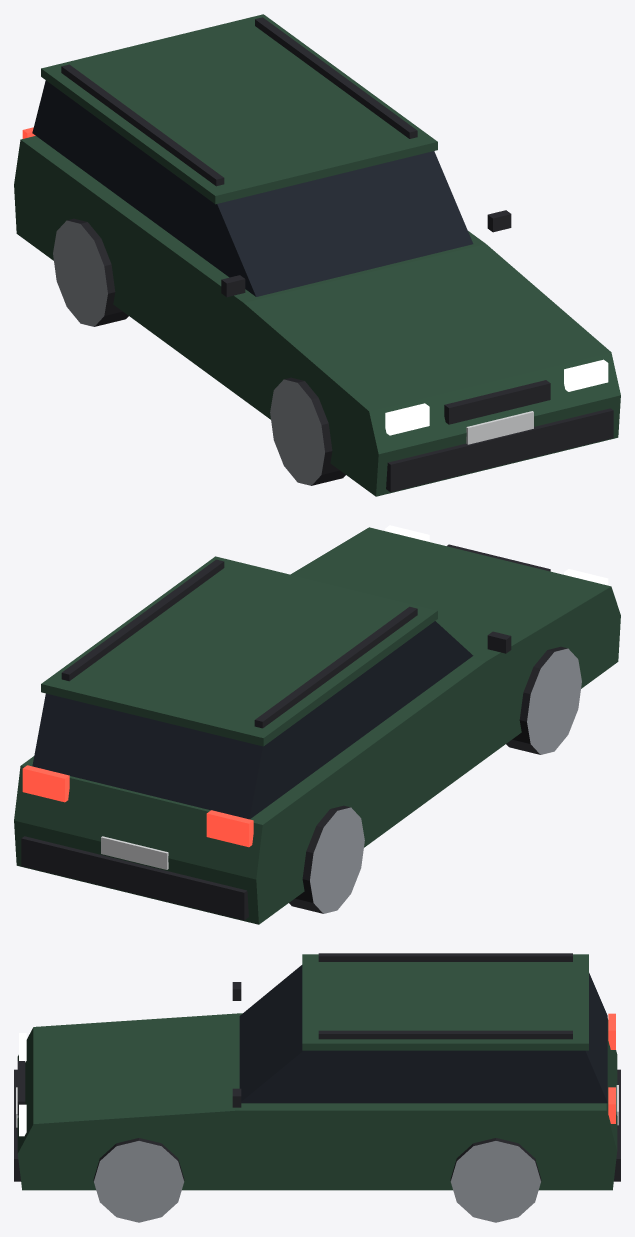
File: corva_sw.glb
3 views of the same model, one above another, from view 1: azimuth 30°, elevation 25°; view 2: azimuth 150°, elevation 25°; view 3: azimuth 270°, elevation 25° (orthographic). The views are drawn at different scales.
Parts seen in each view (by area): view 1: corva_sw, wheel_FR, wheel_RR; view 2: corva_sw, wheel_RR, wheel_FR; view 3: corva_sw, wheel_FL, wheel_RL.
Part boxes in pixels (bbox=[...]): corva_sw: bbox=[14, 14, 620, 496]; wheel_FR: bbox=[270, 377, 345, 485]; wheel_RR: bbox=[53, 218, 128, 326]; corva_sw: bbox=[14, 525, 620, 924]; wheel_RR: bbox=[289, 805, 364, 913]; wheel_FR: bbox=[506, 646, 581, 754]; corva_sw: bbox=[14, 953, 620, 1190]; wheel_FL: bbox=[93, 1138, 184, 1222]; wheel_RL: bbox=[450, 1138, 541, 1222].
Size of the model in its own units: 2.15 by 1.56 by 4.83.
